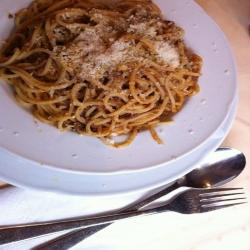bolonese_pasta: (9, 3, 207, 157)
